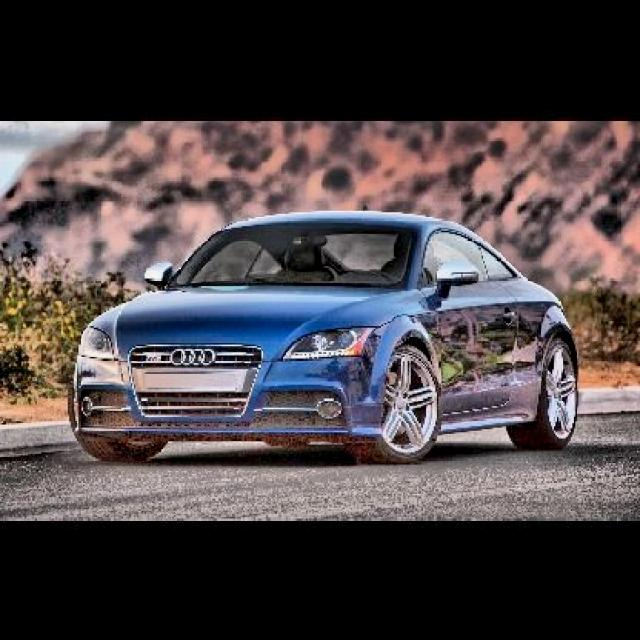blue: (73, 211, 579, 472)
